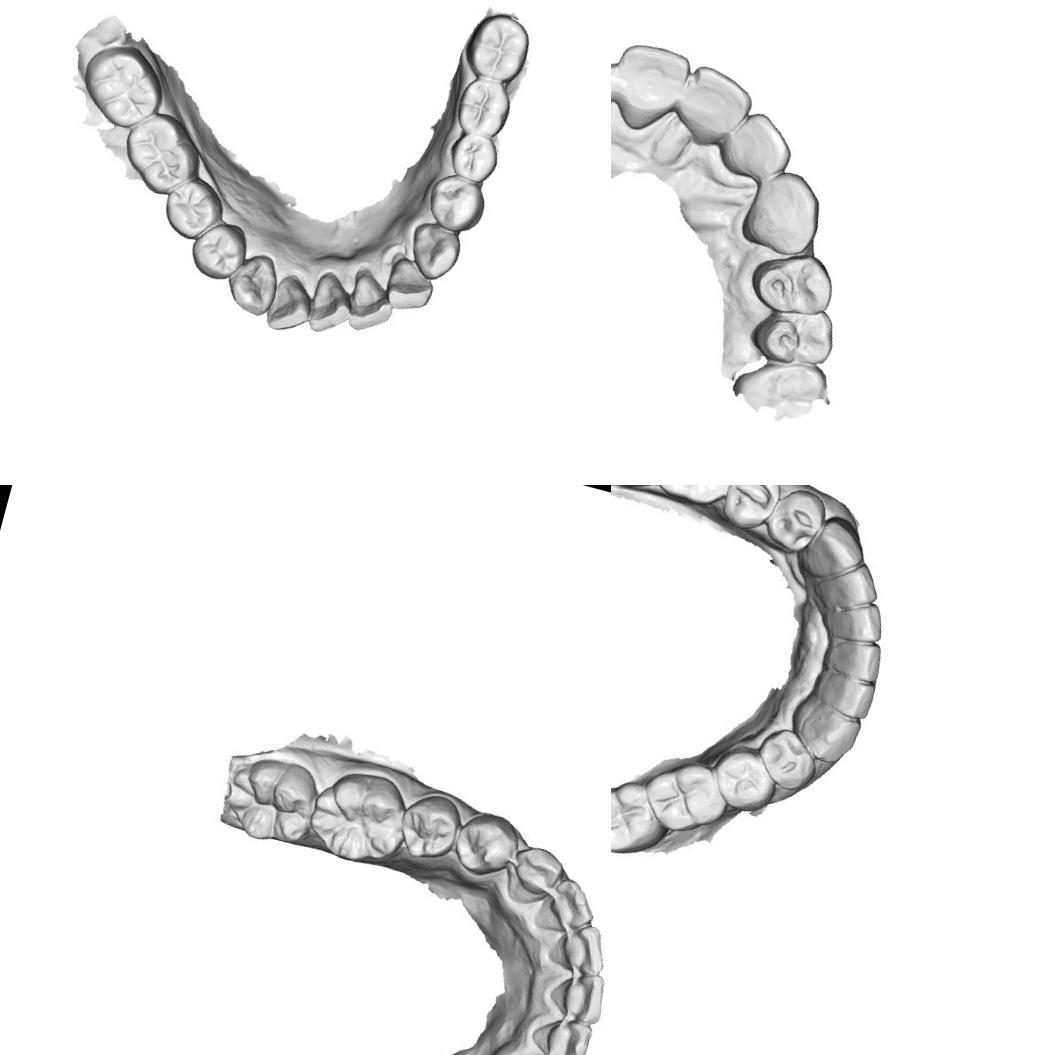canine: (733, 162, 830, 262), (800, 512, 869, 591), (500, 837, 568, 914), (791, 700, 861, 771), (222, 246, 286, 320), (402, 218, 465, 284)
incisor: (611, 33, 700, 131), (672, 58, 758, 153), (719, 102, 800, 185), (534, 872, 602, 944), (548, 917, 611, 984), (547, 964, 611, 1028), (344, 270, 400, 338), (262, 270, 316, 340), (821, 634, 888, 688), (303, 271, 356, 339), (820, 593, 888, 646), (529, 1006, 599, 1055), (383, 256, 440, 316), (817, 560, 880, 612), (815, 672, 875, 720)
molar: (302, 763, 410, 876), (220, 751, 323, 854), (74, 36, 174, 136), (115, 106, 208, 202), (641, 756, 729, 842), (449, 71, 516, 144), (467, 14, 528, 83), (611, 772, 661, 855), (654, 485, 738, 514)
premolar: (741, 238, 842, 325), (745, 293, 841, 380), (446, 802, 525, 883), (396, 783, 465, 867), (156, 171, 229, 246), (750, 723, 820, 796), (184, 214, 254, 286), (711, 743, 778, 815), (423, 172, 489, 238), (768, 485, 823, 552), (444, 128, 503, 186), (720, 485, 781, 529)
